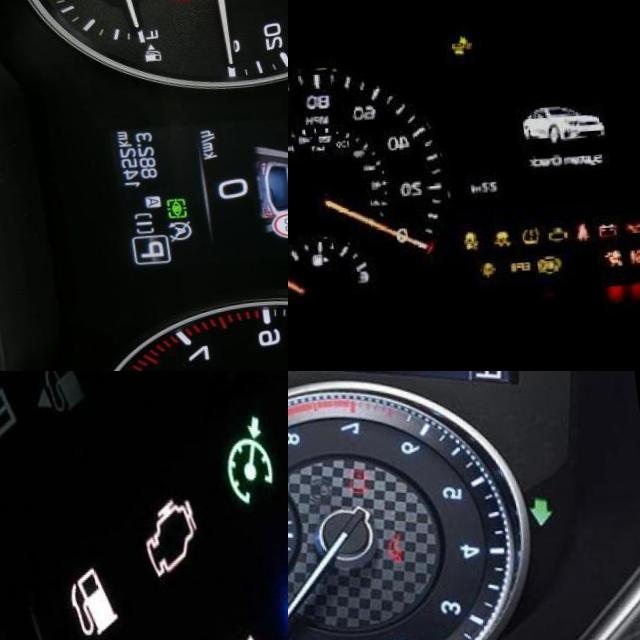Seat Belt: (570, 224, 587, 241)
